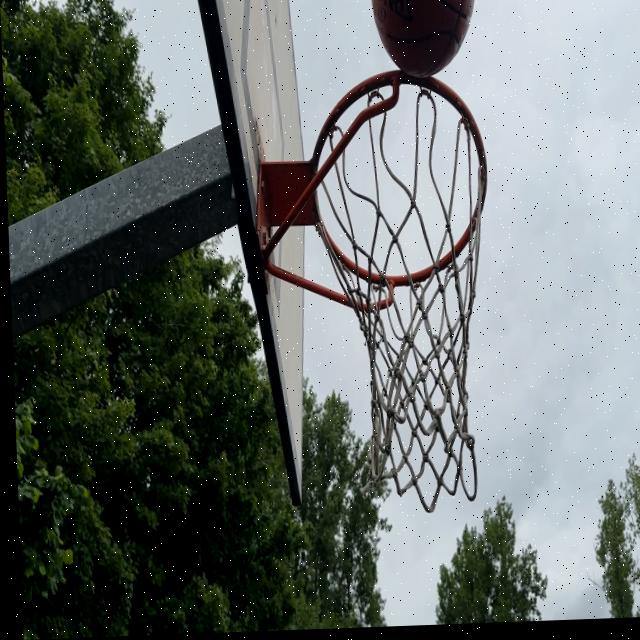rebound_hit: (372, 0, 481, 90)
